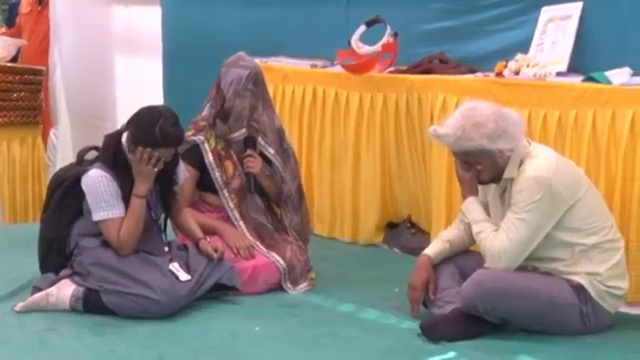helmet: (0, 35, 29, 67)
helmet_off: (434, 103, 529, 192), (116, 106, 181, 172), (213, 56, 266, 126)
person: (398, 93, 640, 333), (20, 101, 211, 315), (178, 53, 308, 289), (11, 1, 51, 67)
